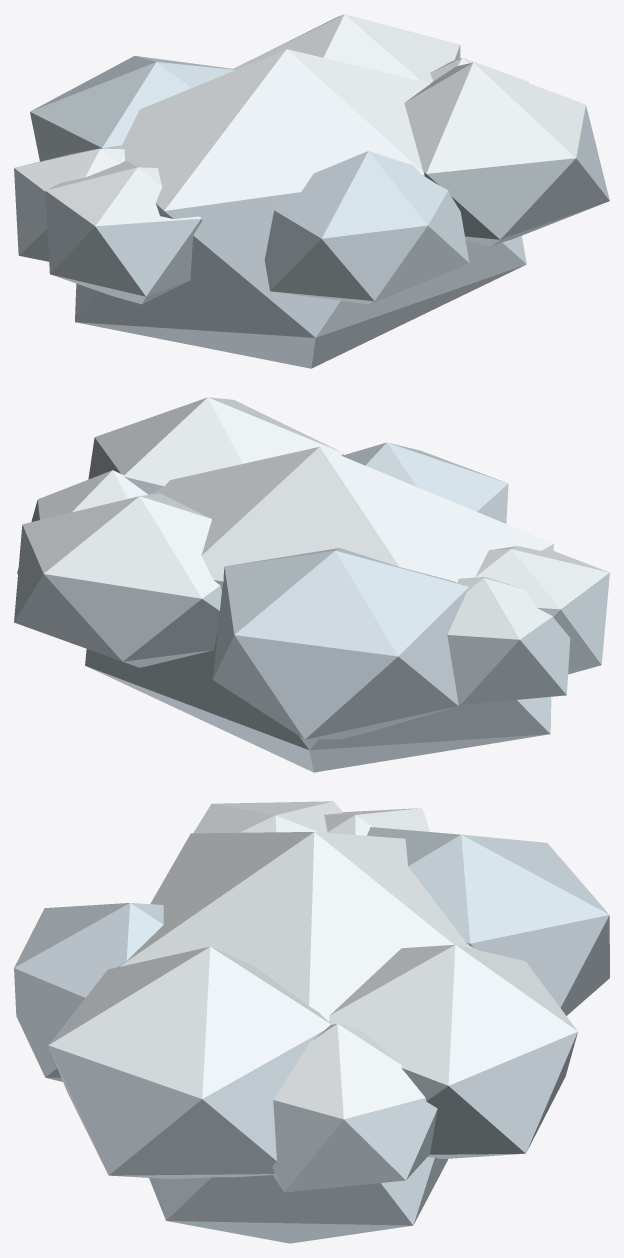
File: snowbank_large.glb
3 renders of one model, top to bottom at view 1: azimuth 30°, elevation 25°; view 2: azimuth 150°, elevation 25°; view 3: azimuth 270°, elevation 25°, orthographic. The views are drawn at different scales.
Parts seen in each view (by area): view 1: snowbank_large; view 2: snowbank_large; view 3: snowbank_large.
Part boxes in pixels (x1,y1,x2,y2): snowbank_large: [14, 14, 609, 368]; snowbank_large: [14, 397, 609, 772]; snowbank_large: [14, 801, 609, 1243].
Bounding box in the file's own units: 2.39 × 1.43 × 1.92.
